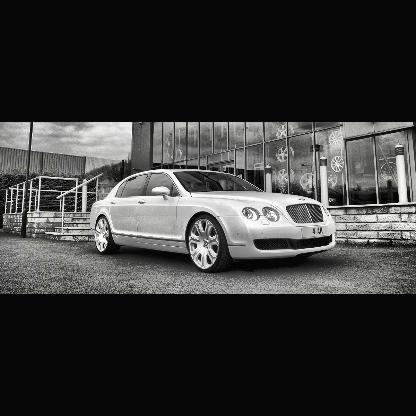Bentley Continental Flying Spur Sedan 2007: (91, 170, 337, 274)
